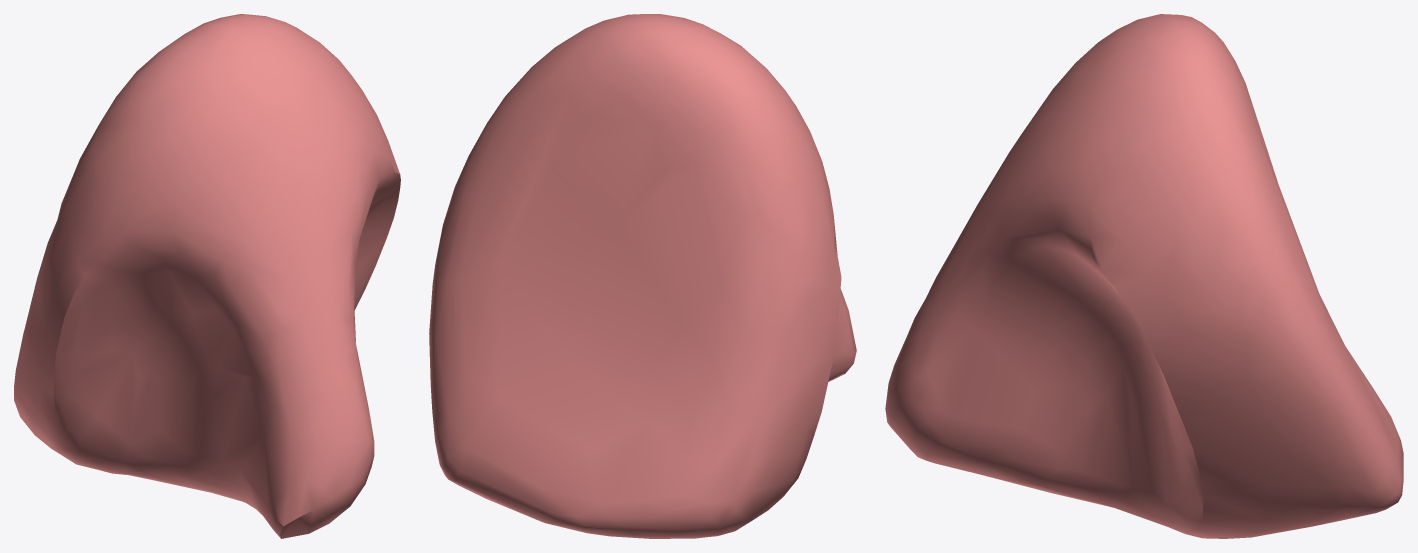
File: nervoso-uvula-of-vermis.glb
The picture shows the model from 3 angles, left to right: view 1: azimuth 30°, elevation 25°; view 2: azimuth 150°, elevation 25°; view 3: azimuth 270°, elevation 25°; orthographic projection. The views are drawn at different scales.
Visible parts, largest first — view 1: Uvula of vermis; view 2: Uvula of vermis; view 3: Uvula of vermis.
Part boxes in pixels (box(x1,y1,x2,y2)): Uvula of vermis: box(14, 14, 400, 538); Uvula of vermis: box(429, 14, 856, 538); Uvula of vermis: box(885, 14, 1403, 538).
Size of the model in its own units: 0.0128 by 0.0163 by 0.0158.
